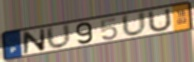5: (99, 16, 119, 42)
9: (75, 21, 94, 45)
N: (21, 27, 47, 55)
U: (45, 23, 74, 50), (120, 11, 149, 38), (148, 7, 174, 34)
